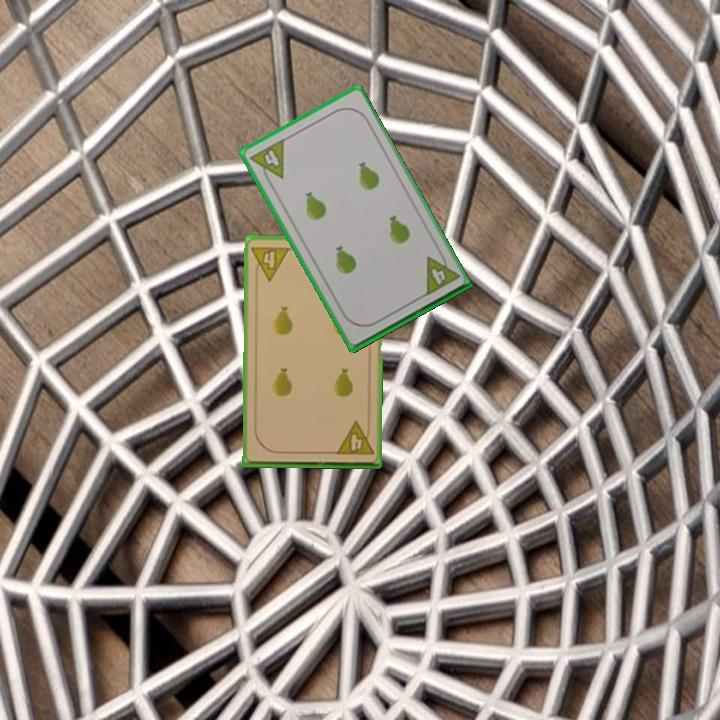4p: (246, 135, 287, 188), (421, 247, 462, 299), (248, 243, 292, 283), (332, 418, 376, 458)
